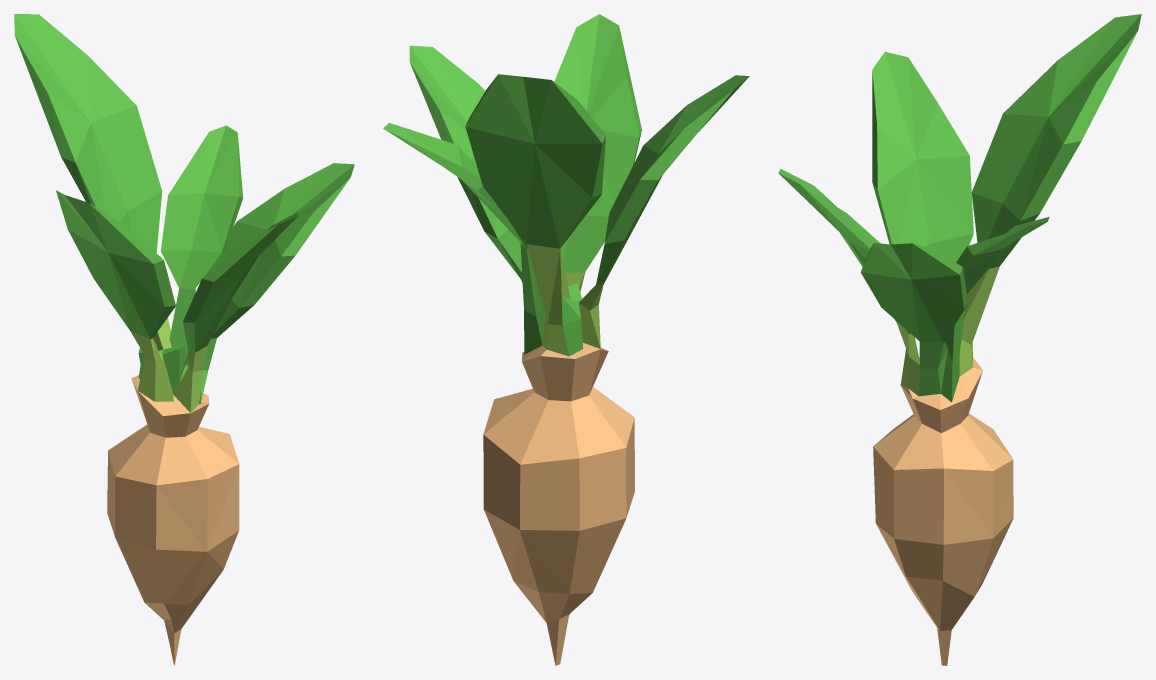
Rendered from Rutabaga_S.fbx.
3 renders of one model, left to right at view 1: azimuth 30°, elevation 25°; view 2: azimuth 150°, elevation 25°; view 3: azimuth 270°, elevation 25°, orthographic. The views are drawn at different scales.
Parts seen in each view (by area): view 1: Rutabaga_S; view 2: Rutabaga_S; view 3: Rutabaga_S.
Boxes of the visible parts, x1=… form: Rutabaga_S: x1=14, y1=14, x2=354, y2=665; Rutabaga_S: x1=383, y1=14, x2=749, y2=665; Rutabaga_S: x1=778, y1=14, x2=1141, y2=665.
Bounding box in the file's own units: 15.11 × 29.42 × 15.66.
